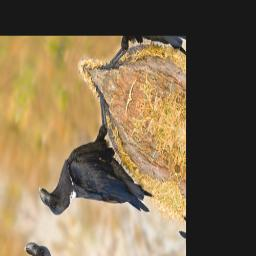Crow: (35, 65, 170, 256)
